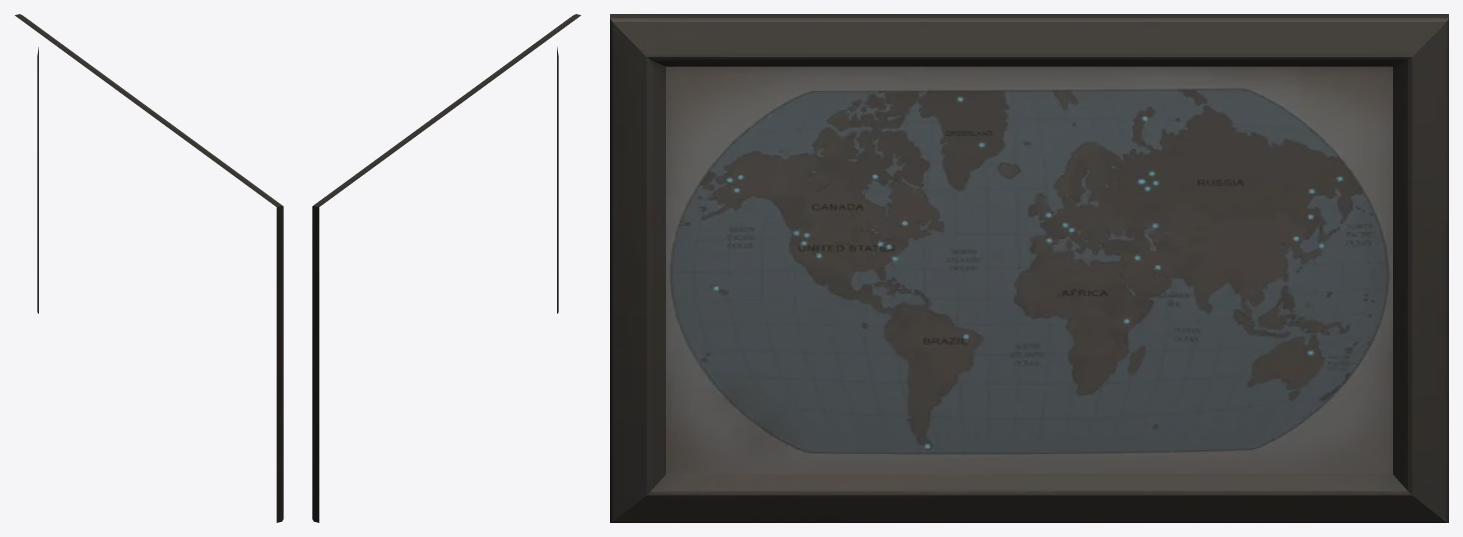
3 renders of one model, left to right at view 1: azimuth 30°, elevation 25°; view 2: azimuth 150°, elevation 25°; view 3: azimuth 270°, elevation 25°, orthographic. The views are drawn at different scales.
Parts seen in each view (by area): view 1: body0_model0_lod0_mesh0; view 2: body0_model0_lod0_mesh0; view 3: body0_model0_lod0_mesh0.
Boxes of the visible parts, x1,y1,x2,y2 form: body0_model0_lod0_mesh0: (15,14,283,522); body0_model0_lod0_mesh0: (312,14,580,522); body0_model0_lod0_mesh0: (610,14,1448,522).
Size of the model in its own units: 7.57 by 182 by 275.
Materials: 1 (1 with a texture image).
